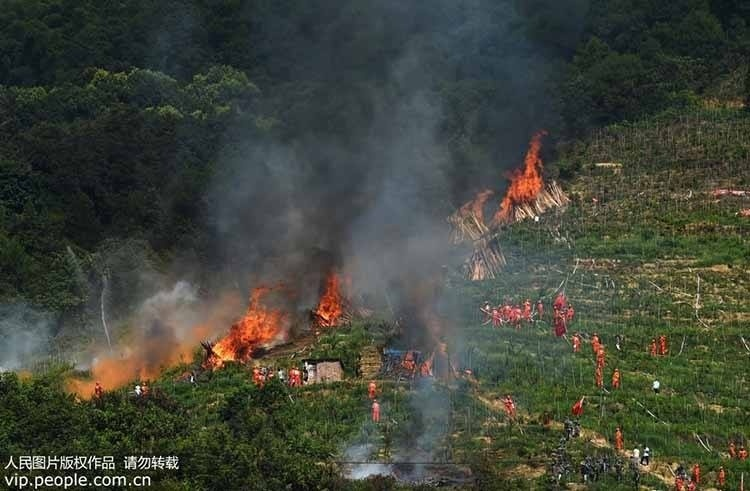fire: (456, 131, 556, 226), (204, 281, 286, 366), (70, 347, 163, 394), (312, 269, 351, 327)
